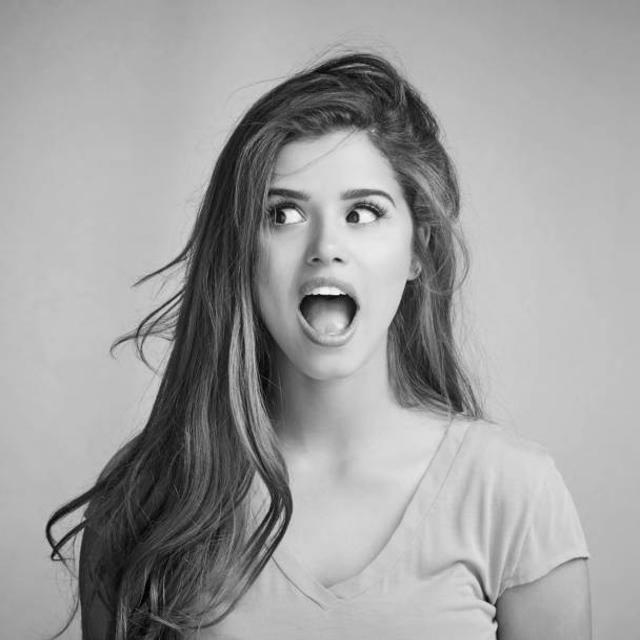Surprised: (256, 125, 418, 385)
